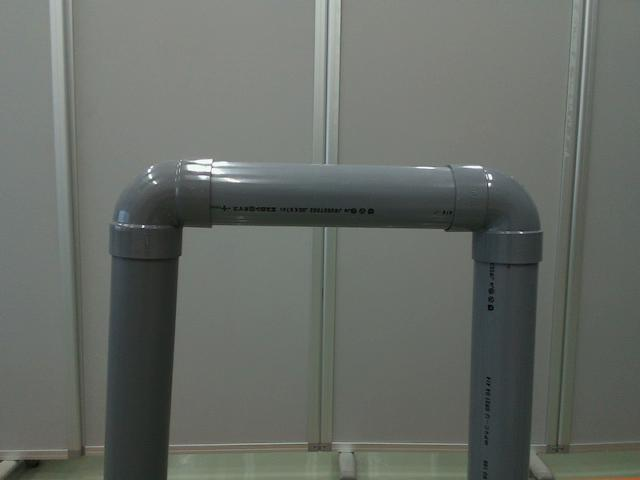bent: (110, 154, 212, 260), (441, 161, 545, 264)
